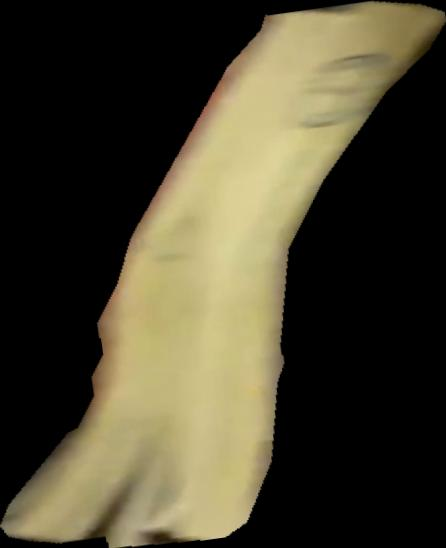backward: (1, 1, 446, 548)
